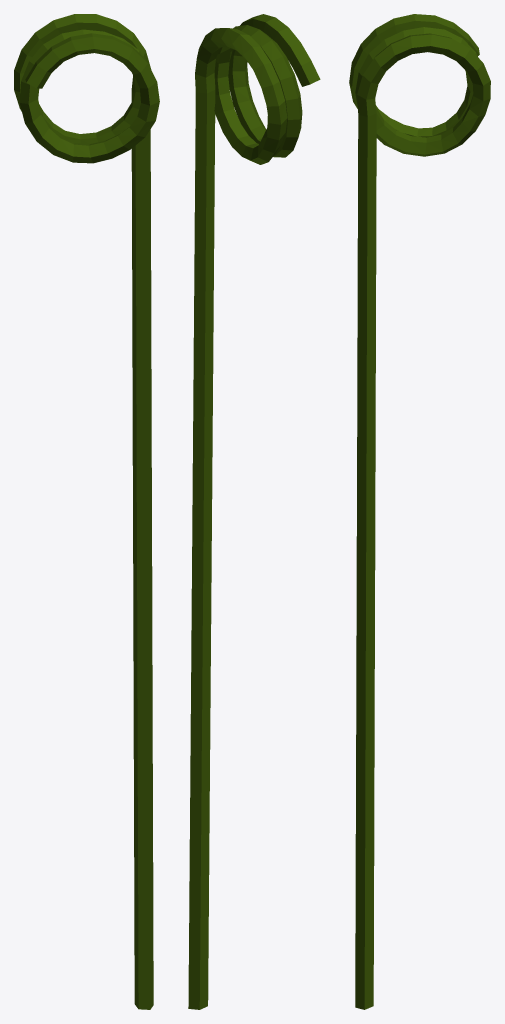
The model's file is Prop_Vegetation_Jungle_Vine_Wraped_05.FBX.
The picture shows the model from 3 angles, left to right: view 1: azimuth 90°, elevation 25°; view 2: azimuth 210°, elevation 25°; view 3: azimuth 270°, elevation 25°; orthographic projection. The views are drawn at different scales.
Visible parts, largest first — view 1: Prop_Vegetation_Jungle_Vine_Wraped_05; view 2: Prop_Vegetation_Jungle_Vine_Wraped_05; view 3: Prop_Vegetation_Jungle_Vine_Wraped_05.
Boxes of the visible parts, bbox=[...] form: Prop_Vegetation_Jungle_Vine_Wraped_05: bbox=[14, 14, 159, 1009]; Prop_Vegetation_Jungle_Vine_Wraped_05: bbox=[188, 14, 320, 1009]; Prop_Vegetation_Jungle_Vine_Wraped_05: bbox=[349, 14, 490, 1009].
Size of the model in its own units: 410 by 5100 by 677.
